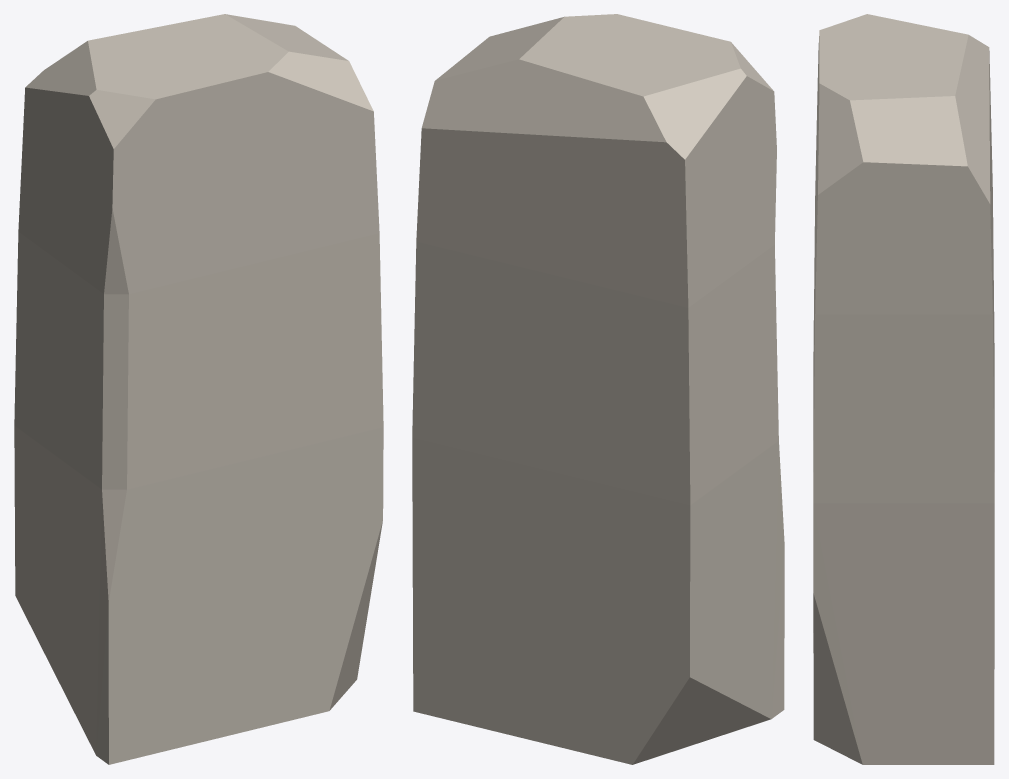
File: Stonehenge_07 2.fbx
The picture shows the model from 3 angles, left to right: view 1: azimuth 30°, elevation 25°; view 2: azimuth 150°, elevation 25°; view 3: azimuth 270°, elevation 25°; orthographic projection. The views are drawn at different scales.
Parts seen in each view (by area): view 1: Stonehenge_07; view 2: Stonehenge_07; view 3: Stonehenge_07.
Boxes of the visible parts, box(x1,y1,x2,y2) form: Stonehenge_07: box(14, 14, 383, 764); Stonehenge_07: box(412, 14, 784, 764); Stonehenge_07: box(813, 14, 994, 764).
Size of the model in its own units: 203 by 460 by 120.
